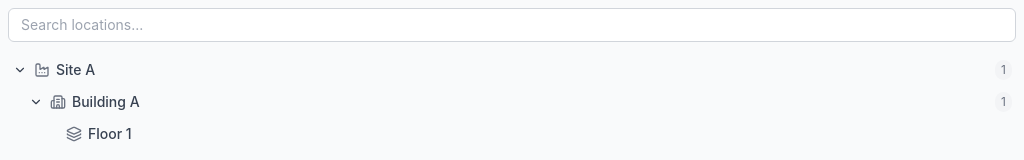
Test: LocationTree › search filters visible nodes
Step 1. Type "Floor" into the search field with placeholder "Search locations..." → (512, 25), box [8,8,1016,42]
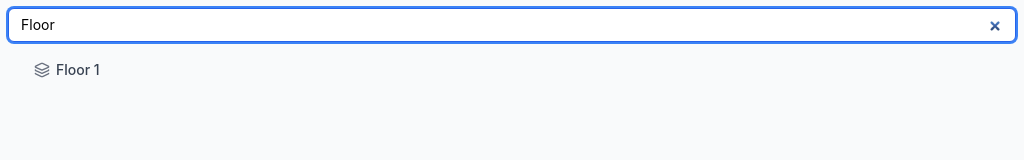
Check: the text "Floor 1" is shown, box [56,61,100,78]
Check: the button "Building A" is gone
